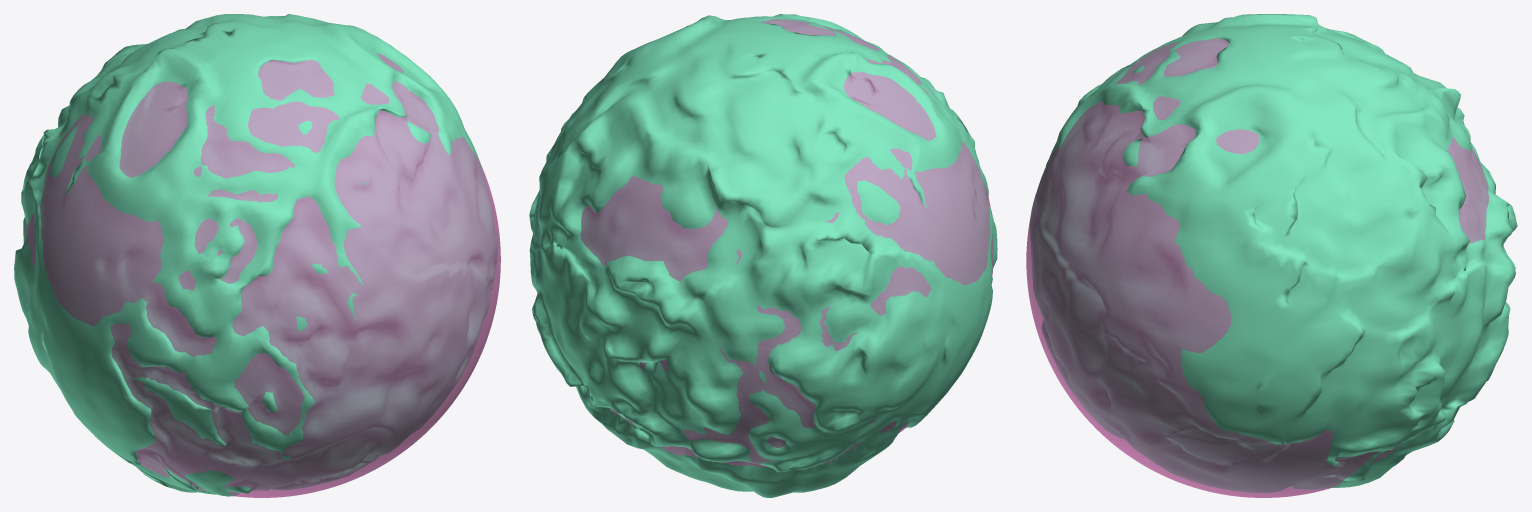
File: Planet3.glb
3 renders of one model, left to right at view 1: azimuth 30°, elevation 25°; view 2: azimuth 150°, elevation 25°; view 3: azimuth 270°, elevation 25°, orthographic. The views are drawn at different scales.
Parts seen in each view (by area): view 1: Cube, Cube.001; view 2: Cube, Cube.001; view 3: Cube, Cube.001.
Part boxes in pixels (x1=…): Cube: x1=14, y1=14, x2=497, y2=496; Cube.001: x1=25, y1=53, x2=500, y2=497; Cube: x1=529, y1=14, x2=997, y2=497; Cube.001: x1=580, y1=19, x2=993, y2=467; Cube: x1=1029, y1=14, x2=1517, y2=492; Cube.001: x1=1026, y1=38, x2=1489, y2=497.
Size of the model in its own units: 10.09 by 10.26 by 10.36.
